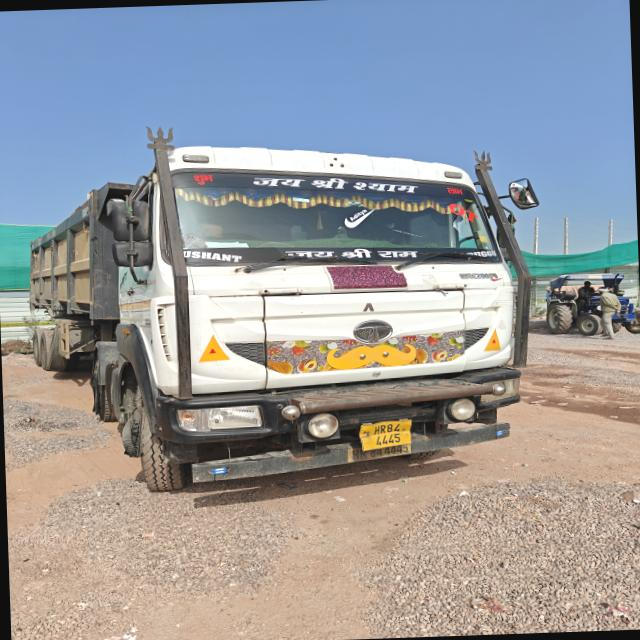license_plate: (360, 420, 411, 450), (348, 445, 411, 462)
